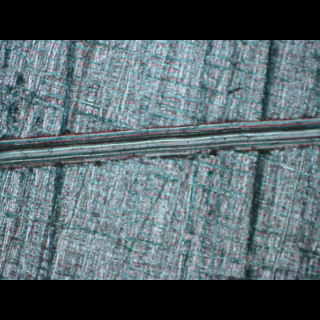d: (0, 114, 318, 178)
